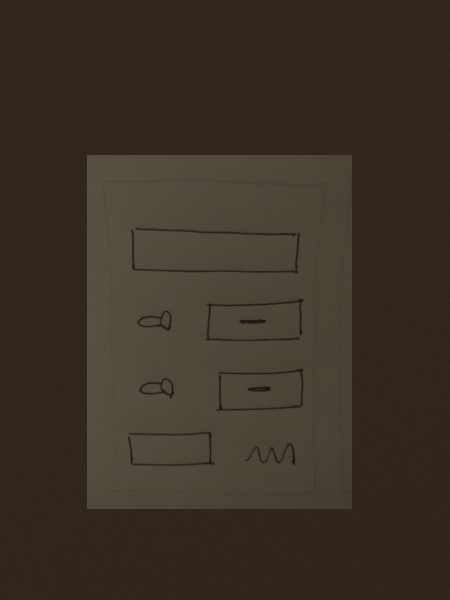button: (199, 297, 307, 346), (211, 367, 307, 416)
switch: (131, 305, 177, 336), (136, 374, 179, 403)
text: (237, 439, 300, 474)
text_input: (124, 221, 304, 279), (123, 429, 219, 469)
